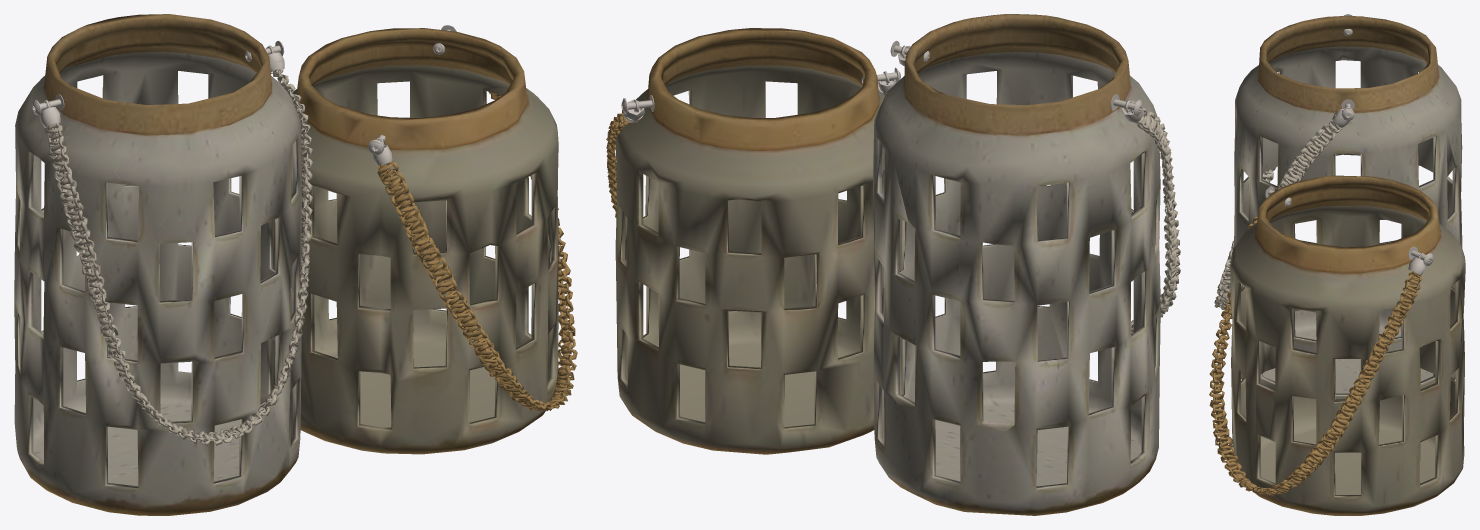
File: B07HSPJ11F.glb
The picture shows the model from 3 angles, left to right: view 1: azimuth 30°, elevation 25°; view 2: azimuth 150°, elevation 25°; view 3: azimuth 270°, elevation 25°; orthographic projection. The views are drawn at different scales.
Visible parts, largest first — view 1: RootNode; view 2: RootNode; view 3: RootNode.
Part boxes in pixels (<box>): RootNode: <box>14,14,577,515</box>; RootNode: <box>606,14,1180,515</box>; RootNode: <box>1209,14,1465,515</box>.
Size of the model in its own units: 0.3468 by 0.2552 by 0.1838.
1 material, 1 textured.
